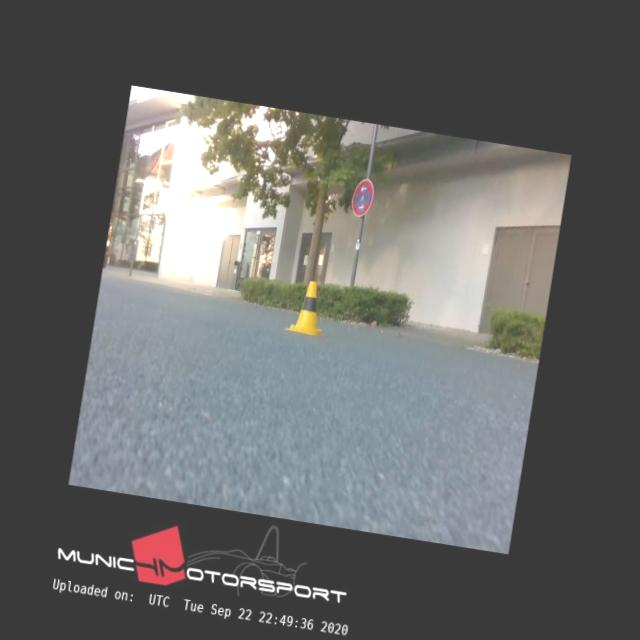yellow_cone: (285, 278, 330, 336)
